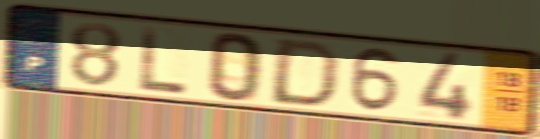0: (204, 30, 266, 104)
4: (415, 50, 476, 123)
6: (348, 45, 402, 114)
8: (65, 18, 125, 90)
D: (265, 37, 344, 110)
L: (139, 23, 190, 96)
